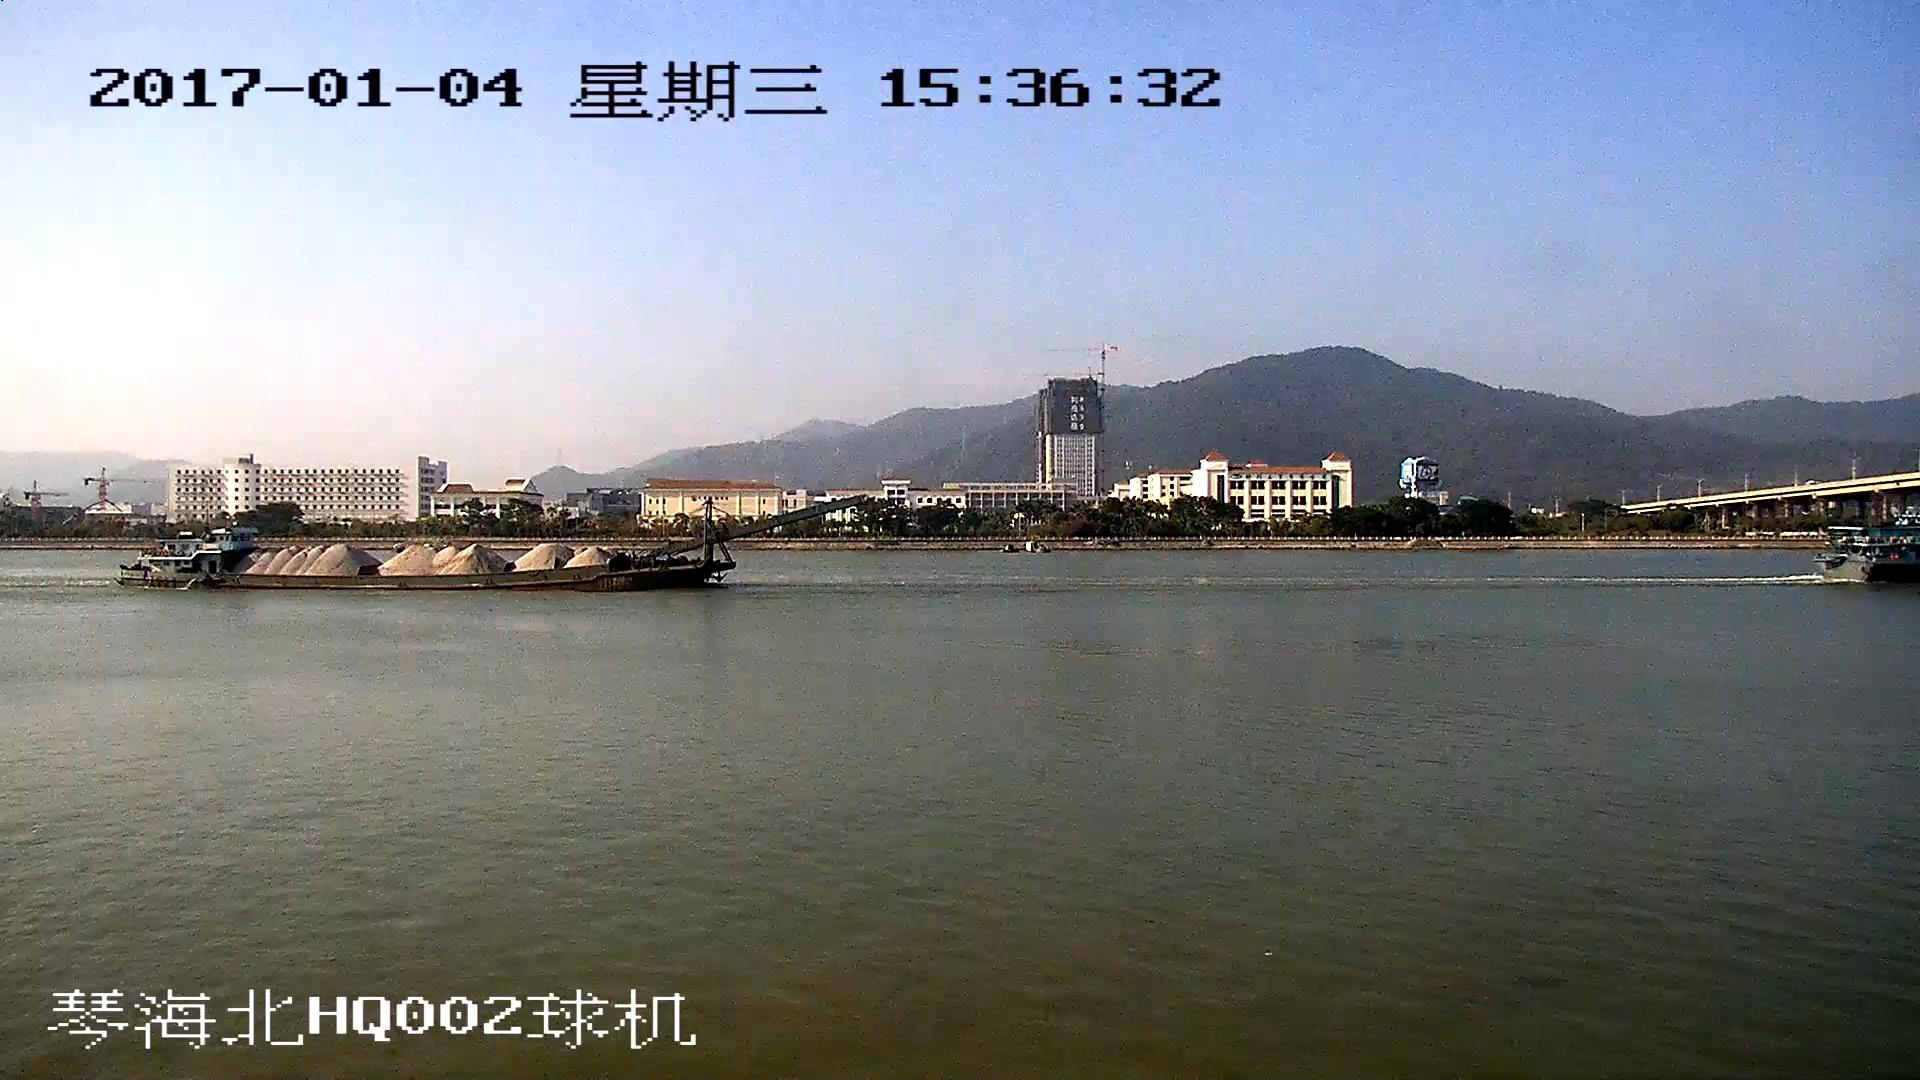ore carrier: (117, 491, 859, 591)
